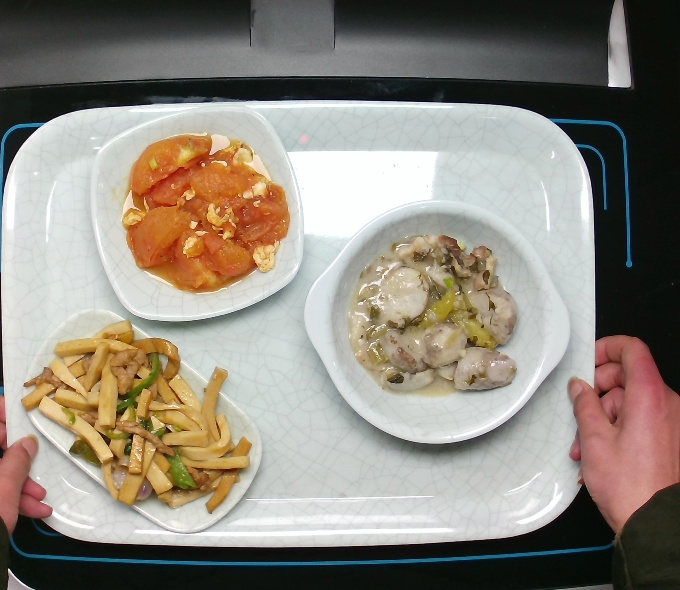wcq-FanQieChaoDan: (116, 123, 291, 303)
wcq-QianYeDouFu: (14, 315, 257, 524)
wcq-YangYu: (347, 224, 528, 407)
